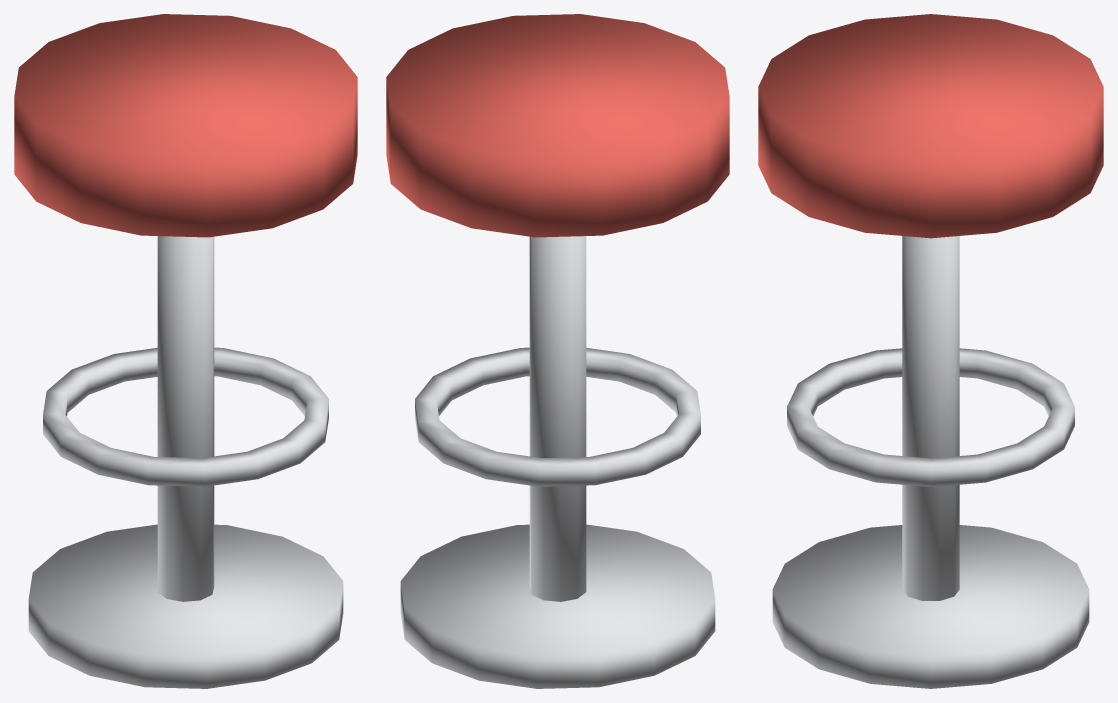
Rendered from stool-burger.glb.
The picture shows the model from 3 angles, left to right: view 1: azimuth 30°, elevation 25°; view 2: azimuth 150°, elevation 25°; view 3: azimuth 270°, elevation 25°; orthographic projection.
Visible parts, largest first — view 1: stool-burger; view 2: stool-burger; view 3: stool-burger.
Boxes of the visible parts, <box> form: stool-burger: <box>14,14,357,688</box>; stool-burger: <box>386,14,729,688</box>; stool-burger: <box>758,14,1103,688</box>.
Size of the model in its own units: 0.48 by 0.82 by 0.48.
